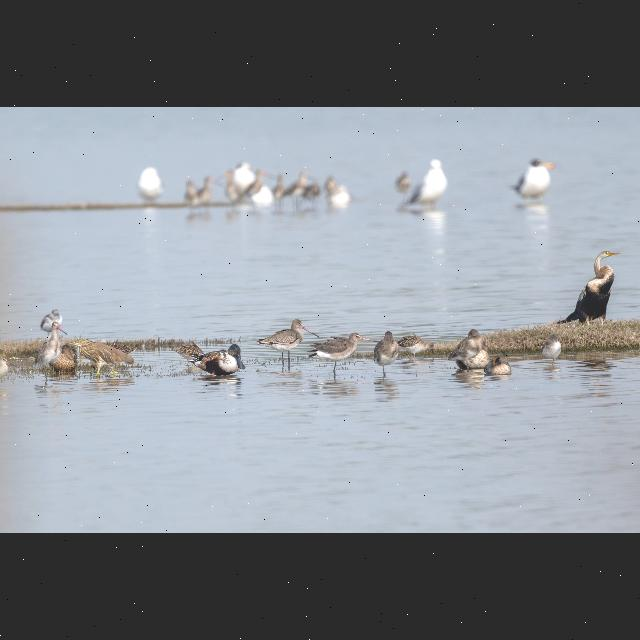heron: (305, 329, 375, 377), (68, 337, 132, 378), (374, 330, 398, 380), (398, 333, 438, 361), (540, 334, 564, 368)
